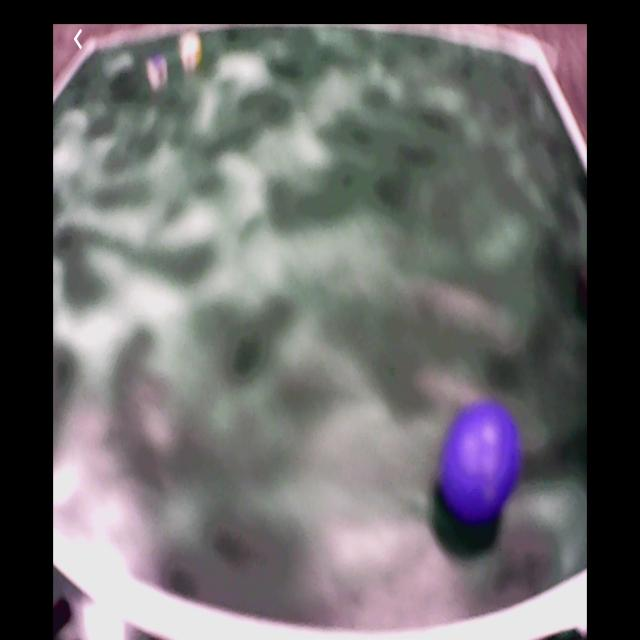ball: (439, 403, 519, 531)
